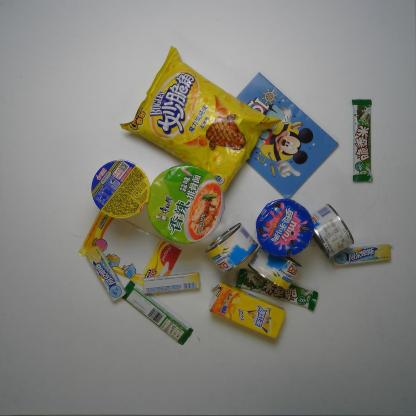Candy: (86, 244, 127, 303), (332, 244, 392, 266), (144, 271, 201, 294)
Canned Food: (249, 238, 301, 290), (205, 223, 259, 273), (307, 204, 354, 260)
Chocolate: (120, 281, 193, 345), (235, 268, 318, 312), (352, 98, 373, 183)
Dessert: (256, 198, 314, 256)
Drink: (209, 282, 285, 339)
Instant Noodles: (147, 164, 224, 244), (91, 160, 149, 219)
Puffed Food: (119, 46, 280, 193)
Stationery: (211, 72, 339, 198), (78, 207, 180, 295)
